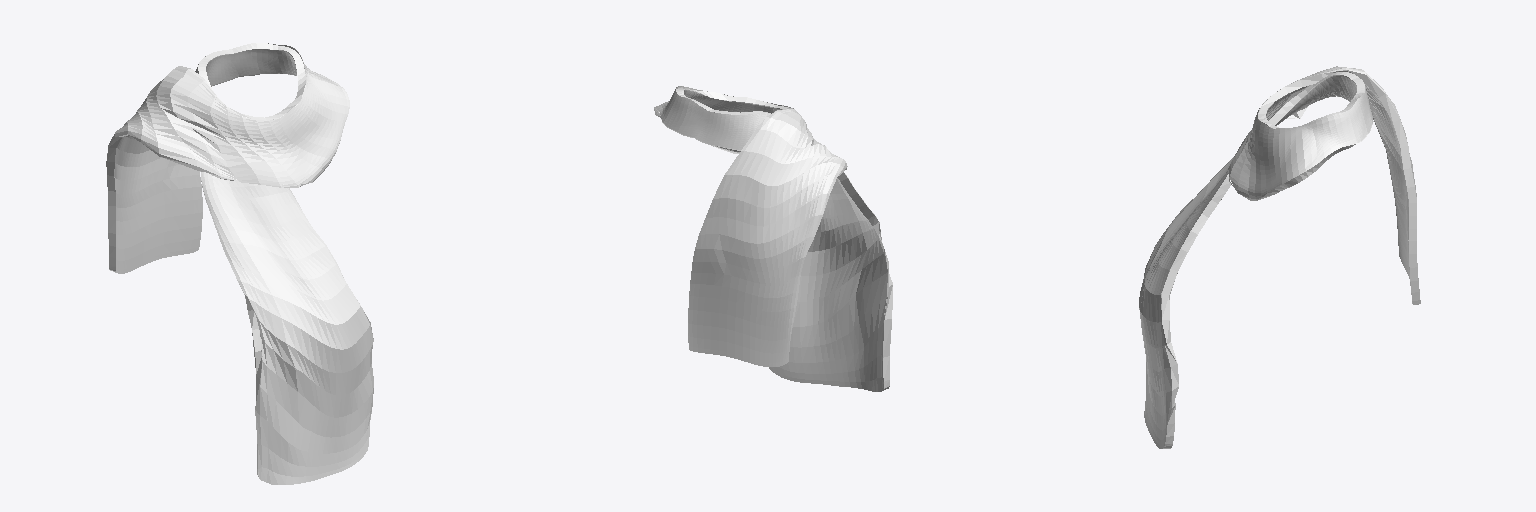
The model's file is bigscarf.obj.
The picture shows the model from 3 angles: view 1: azimuth 30°, elevation 25°; view 2: azimuth 150°, elevation 25°; view 3: azimuth 270°, elevation 25°; orthographic projection.
Parts seen in each view (by area): view 1: nicescarf1; view 2: nicescarf1; view 3: nicescarf1.
Part boxes in pixels (x1,y1,x2,y2): nicescarf1: (106,43,373,484); nicescarf1: (654,86,892,391); nicescarf1: (1139,66,1420,448).
Size of the model in its own units: 0.1061 by 0.1758 by 0.1279.